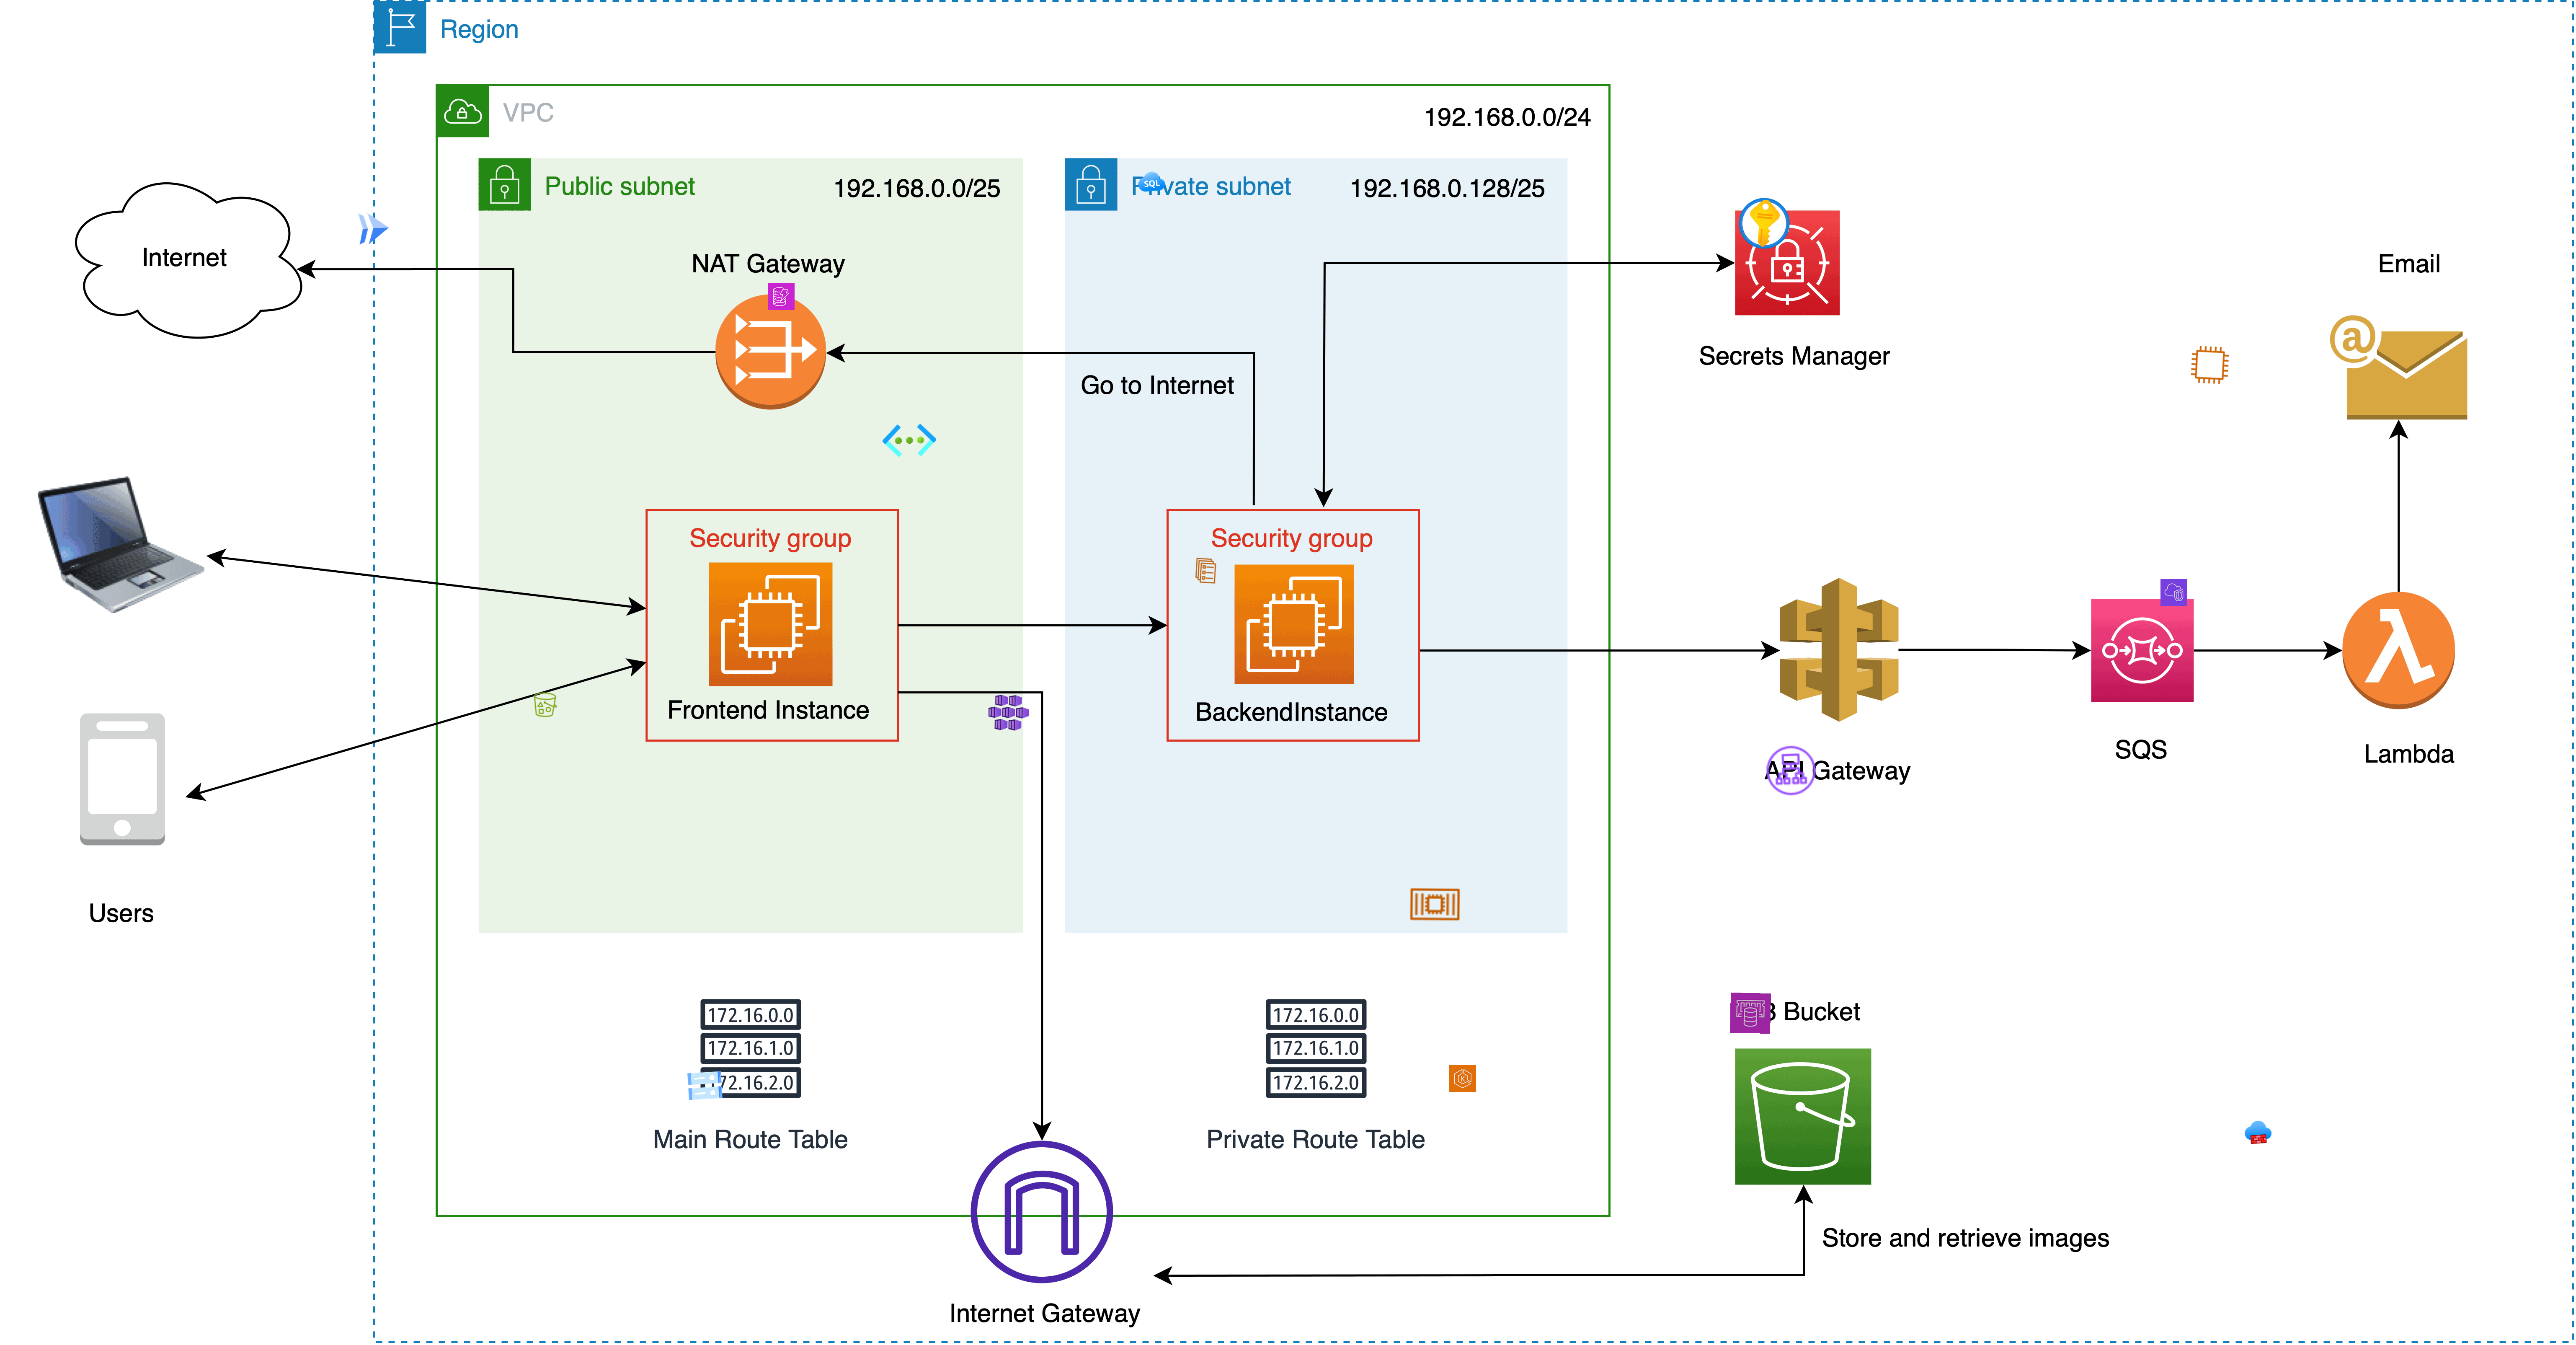aws_amazon_dynamodb: (767, 283, 796, 310)
aws_amazon_elastic_kubernetes_service: (1448, 1065, 1477, 1093)
aws_amazon_elasticache: (1729, 992, 1770, 1033)
aws_amazon_virtual_private_cloud: (2160, 578, 2188, 607)
aws_ec2_instance: (2189, 344, 2232, 387)
aws_elastic_container_service_container_2: (1407, 876, 1462, 931)
aws_elastic_container_service_service: (1191, 556, 1220, 585)
aws_elastic_load_balancing_application_load_balancer: (1763, 743, 1820, 798)
aws_simple_storage_service_bucket_with_objects: (532, 690, 559, 719)
azure_firewalls: (2244, 1118, 2273, 1147)
azure_key_vaults: (1736, 194, 1792, 252)
azure_kubernetes_services: (988, 692, 1029, 733)
azure_sql: (1136, 167, 1165, 196)
azure_virtual_networks: (883, 413, 937, 469)
gcp_cloud_run: (353, 206, 395, 249)
gcp_cloud_storage: (683, 1064, 726, 1106)
